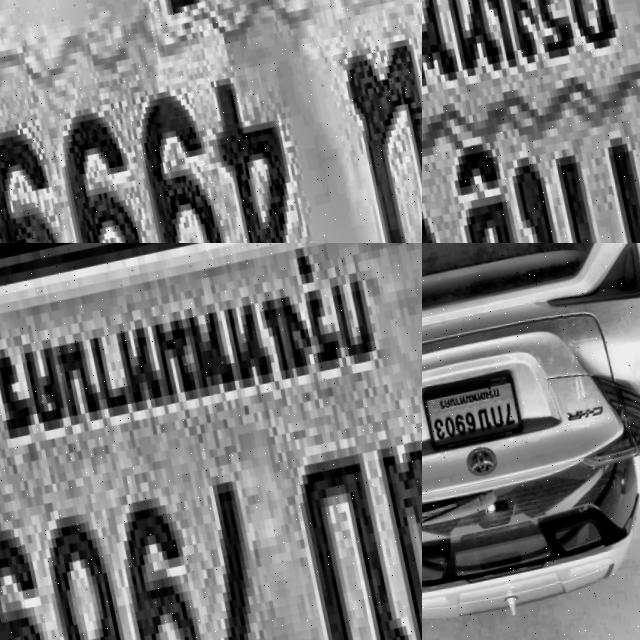license-plate: (0, 243, 422, 640), (0, 0, 422, 243), (422, 0, 640, 243), (422, 365, 526, 463)
